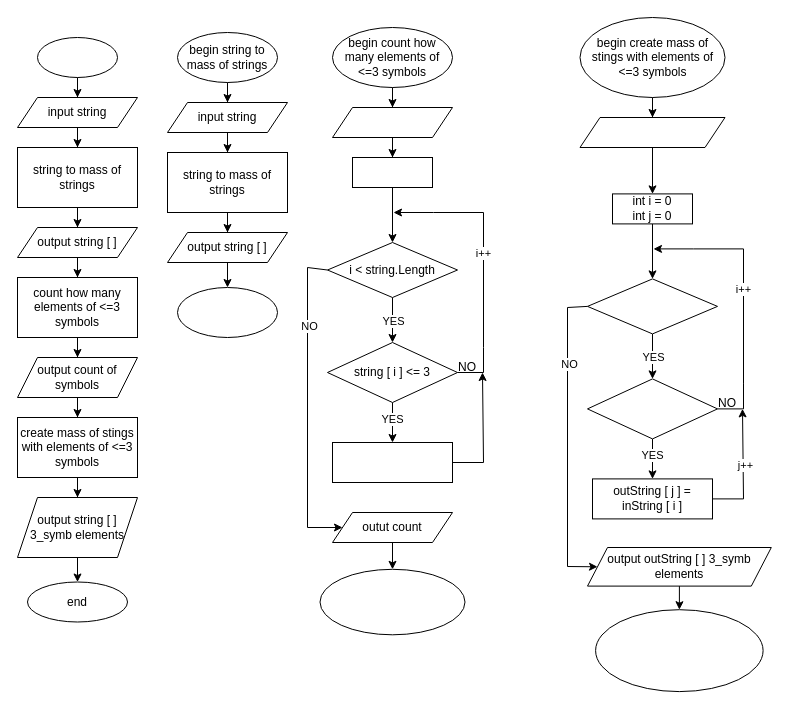
This 789x710 diagram has some shape labels left out. Here are the shapes that lost their labels. From the top down, the centre of each, then its label:
(x=77, y=57): begin
(x=392, y=122): input string [ ]
(x=652, y=132): input inString [ ], count
(x=392, y=172): int i = 0 int count = 0
(x=227, y=312): end string to mass of strings
(x=652, y=306): i < inString.Length
(x=652, y=408): inString [ i ] <= 3
(x=392, y=462): count = count +1
(x=392, y=601): end count how many elements of <=3 symbols
(x=679, y=650): end create mass of stings with elements of <=3 symbols
